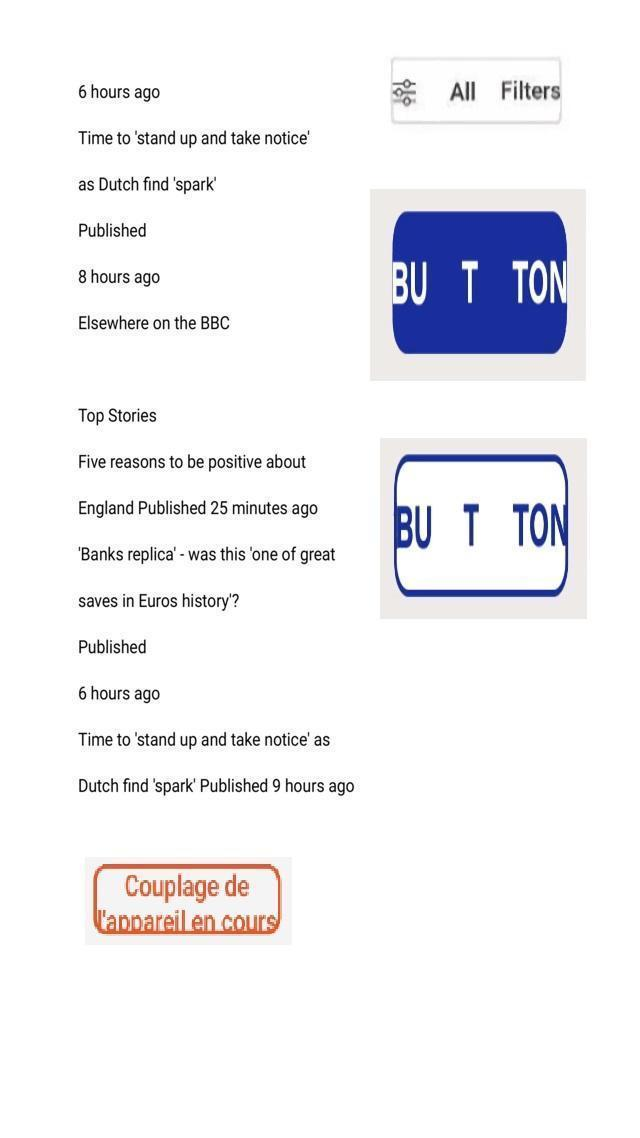Text: (72, 772, 360, 804), (74, 723, 340, 756), (70, 491, 323, 524), (70, 542, 344, 570), (73, 123, 317, 154), (72, 446, 308, 472), (75, 588, 244, 617), (74, 167, 224, 199), (74, 310, 234, 334), (74, 77, 170, 107), (72, 402, 165, 432), (74, 262, 164, 292), (74, 216, 156, 247), (72, 681, 162, 707), (74, 632, 152, 660)
TextButton: (388, 208, 568, 354), (394, 452, 570, 597), (91, 861, 282, 937), (390, 55, 562, 125)
WS1: (545, 499, 584, 550), (376, 255, 408, 310), (377, 500, 413, 548), (551, 251, 580, 310), (257, 910, 290, 946), (378, 73, 408, 108), (548, 73, 576, 108), (78, 921, 114, 945)
